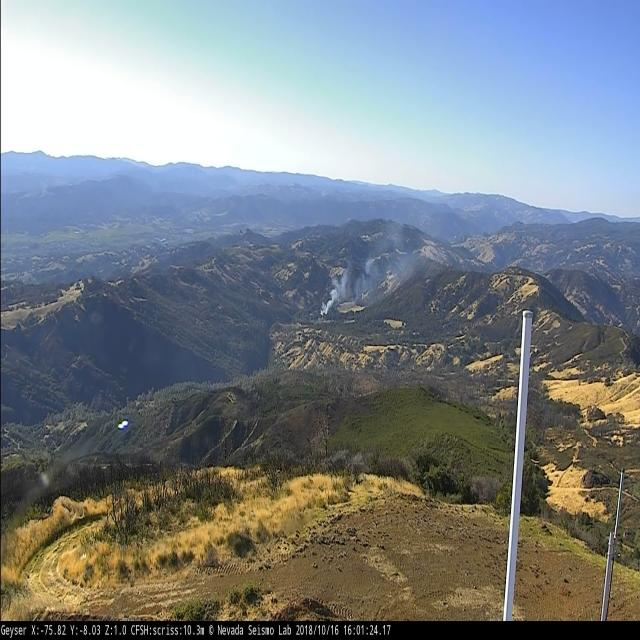smoke: (319, 255, 375, 317)
